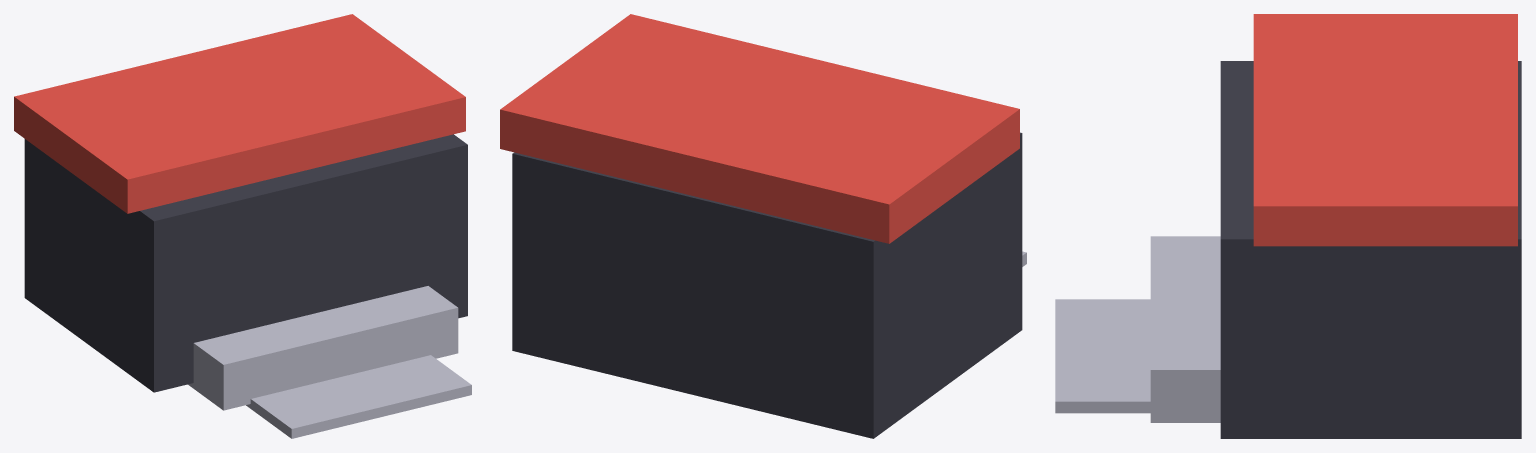
File: office-printer.obj
3 views of the same model, side by side, from view 1: azimuth 30°, elevation 25°; view 2: azimuth 150°, elevation 25°; view 3: azimuth 270°, elevation 25° (orthographic). The views are drawn at different scales.
Visible parts, largest first — view 1: printer-body, scanner-lid, paper-tray, printed-page; view 2: printer-body, scanner-lid; view 3: printer-body, scanner-lid, paper-tray, printed-page.
Part boxes in pixels (<box>): printer-body: <box>24,134,467,392</box>; scanner-lid: <box>14,14,465,213</box>; paper-tray: <box>188,286,458,410</box>; printed-page: <box>246,355,471,438</box>; printer-body: <box>512,132,1022,438</box>; scanner-lid: <box>500,14,1019,243</box>; printer-body: <box>1220,61,1521,438</box>; scanner-lid: <box>1253,14,1517,246</box>; paper-tray: <box>1150,236,1220,422</box>; printed-page: <box>1055,299,1150,413</box>.
Size of the model in its own units: 1.24 by 0.7575 by 1.27.
